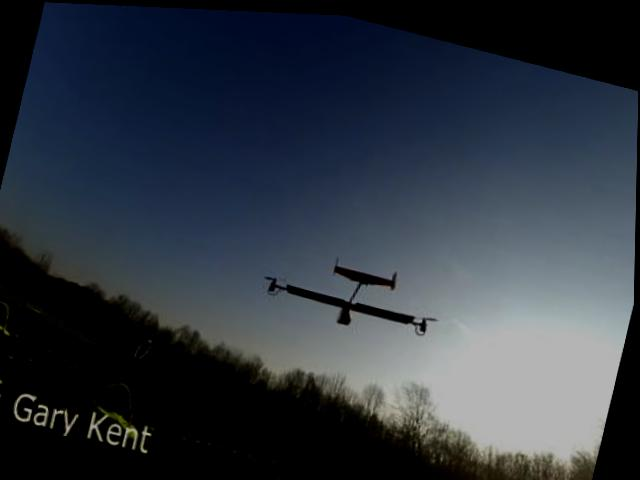uav: (246, 229, 457, 363)
